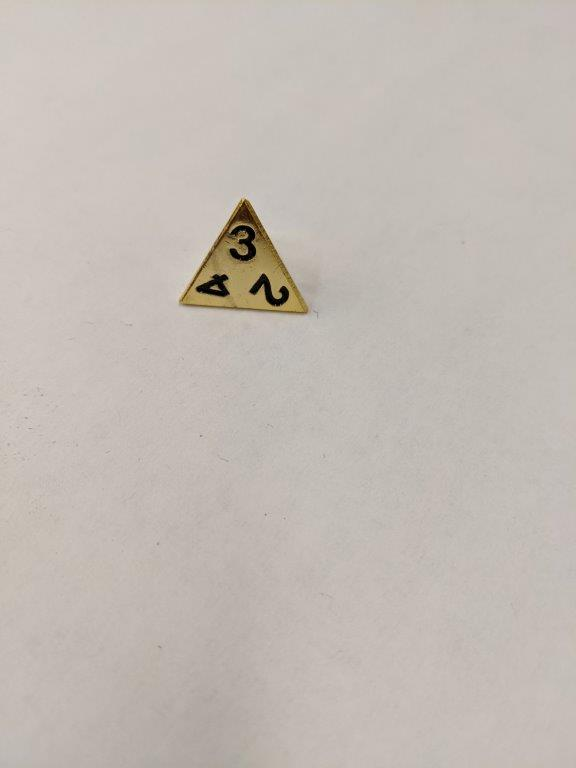d4-3: (178, 198, 312, 319)
